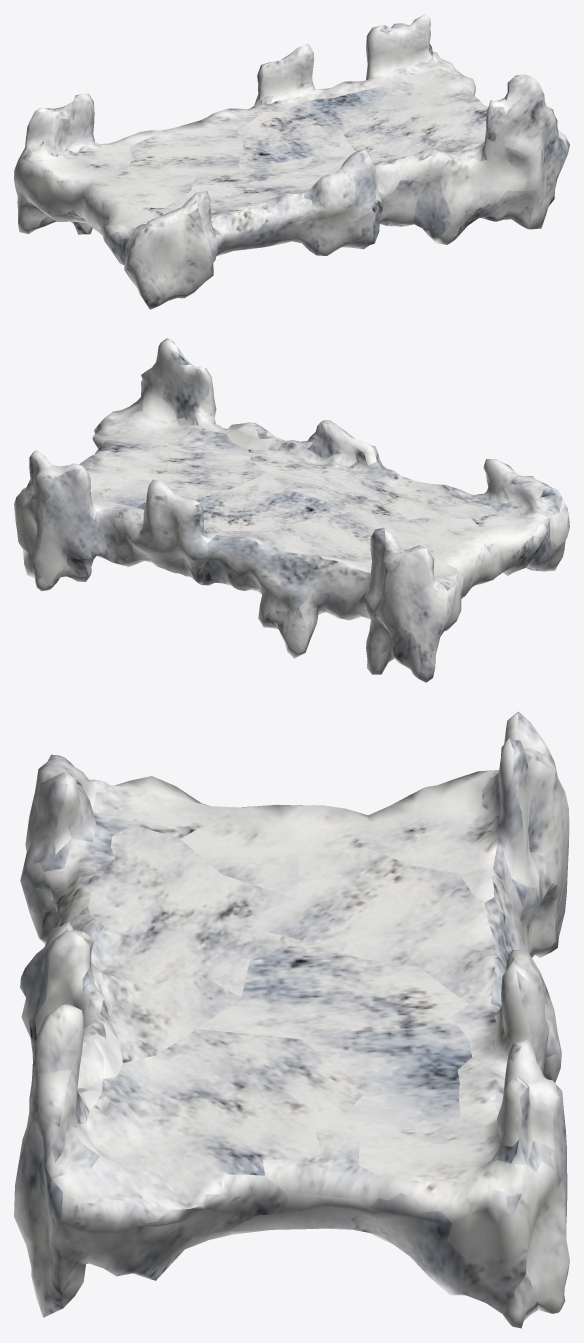
File: plataforma_1.obj
The picture shows the model from 3 angles, top to bottom: view 1: azimuth 30°, elevation 25°; view 2: azimuth 150°, elevation 25°; view 3: azimuth 270°, elevation 25°; orthographic projection. The views are drawn at different scales.
Parts seen in each view (by area): view 1: plataforma_1; view 2: plataforma_1; view 3: plataforma_1.
Boxes of the visible parts, <box> form: plataforma_1: <box>14,14,569,309</box>; plataforma_1: <box>14,338,569,682</box>; plataforma_1: <box>14,711,569,1328</box>.
Size of the model in its own units: 4.73 by 1.7 by 2.6.
1 material, 1 textured.
